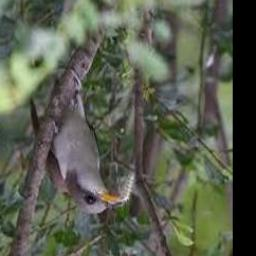Cuckoo: (31, 91, 122, 214)
